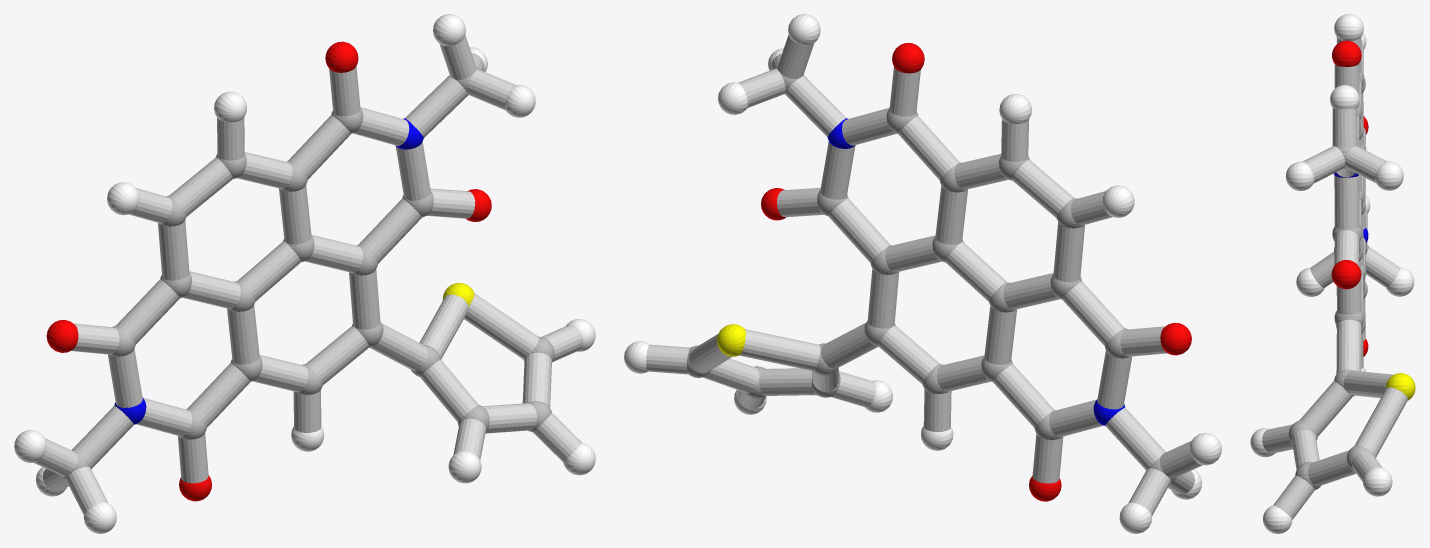
Rendered from Dimethyl_Naphthalene_Dicarboximide_Phi_15_Theta_130_Thiophene.glb.
3 renders of one model, left to right at view 1: azimuth 30°, elevation 25°; view 2: azimuth 150°, elevation 25°; view 3: azimuth 270°, elevation 25°, orthographic. The views are drawn at different scales.
Parts seen in each view (by area): view 1: grp14119, grp7241, grp1, grp12309, grp11585; view 2: grp14119, grp7241, grp1, grp12309, grp13757, grp11585; view 3: grp14119, grp7241, grp1, grp12309, grp13757.
Boxes of the visible parts, left/top/right/bottom form: grp14119: left=33, top=35, right=583, bottom=514; grp7241: left=14, top=14, right=595, bottom=533; grp1: left=61, top=66, right=554, bottom=480; grp12309: left=46, top=41, right=491, bottom=501; grp11585: left=114, top=118, right=423, bottom=424; grp14119: left=646, top=35, right=1202, bottom=515; grp7241: left=624, top=14, right=1221, bottom=533; grp1: left=686, top=66, right=1176, bottom=482; grp12309: left=761, top=43, right=1191, bottom=501; grp13757: left=717, top=324, right=746, bottom=356; grp11585: left=827, top=118, right=1124, bottom=425; grp14119: left=1262, top=37, right=1407, bottom=519; grp7241: left=1250, top=14, right=1414, bottom=533; grp1: left=1288, top=70, right=1375, bottom=489; grp12309: left=1331, top=40, right=1368, bottom=356; grp13757: left=1386, top=373, right=1415, bottom=400.
Size of the model in its own units: 12.33 by 9.06 by 3.34.
